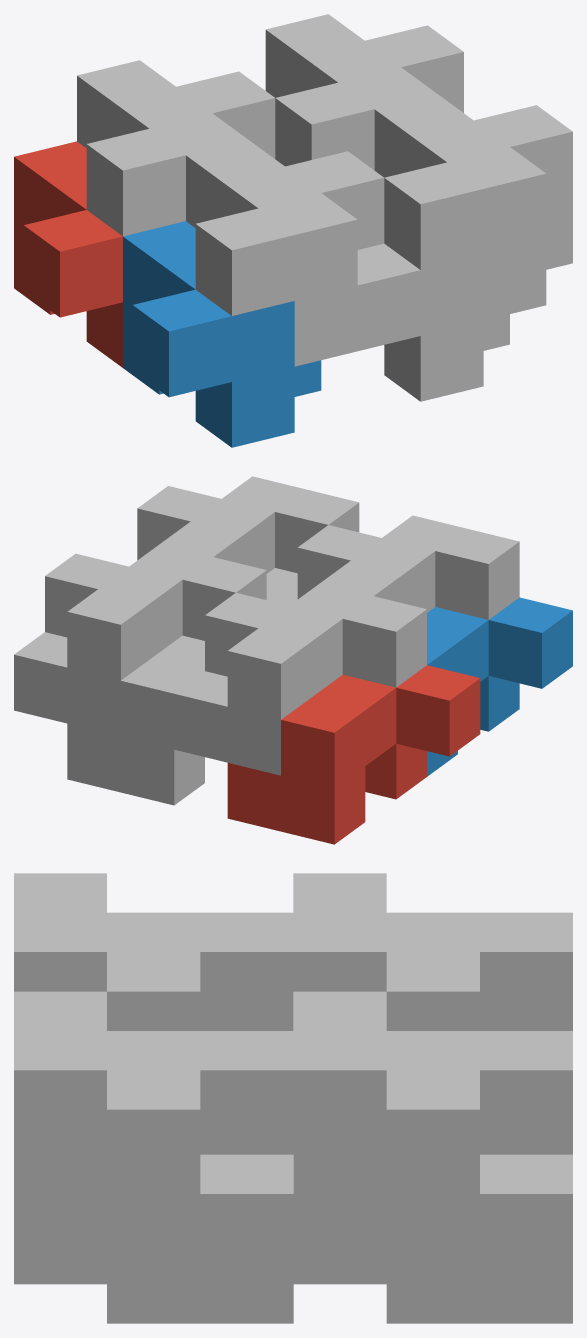
File: tiling.obj
The picture shows the model from 3 angles, top to bottom: view 1: azimuth 30°, elevation 25°; view 2: azimuth 150°, elevation 25°; view 3: azimuth 270°, elevation 25°; orthographic projection. The views are drawn at different scales.
Visible parts, largest first — view 1: copy_1_domain_8, copy_1_domain_4, copy_1_domain_2, copy_1_domain_3, copy_1_domain_7, copy_1_domain_6, copy_1_domain_1; view 2: copy_1_domain_3, copy_1_domain_1, copy_1_domain_7, copy_1_domain_4, copy_1_domain_8, copy_1_domain_5, copy_1_domain_2, copy_1_domain_6; view 3: copy_1_domain_7, copy_1_domain_8, copy_1_domain_3, copy_1_domain_4, copy_1_domain_5, copy_1_domain_6.
Boxes of the visible parts, x1,y1,x2,y2 form: copy_1_domain_8: [374, 94, 572, 320]; copy_1_domain_4: [186, 140, 384, 366]; copy_1_domain_2: [123, 221, 321, 447]; copy_1_domain_3: [77, 60, 275, 236]; copy_1_domain_7: [265, 14, 463, 170]; copy_1_domain_6: [357, 243, 509, 401]; copy_1_domain_1: [14, 141, 122, 367]; copy_1_domain_3: [174, 583, 426, 775]; copy_1_domain_1: [227, 665, 480, 844]; copy_1_domain_7: [14, 544, 266, 736]; copy_1_domain_4: [297, 515, 519, 619]; copy_1_domain_8: [137, 476, 359, 573]; copy_1_domain_5: [67, 635, 204, 805]; copy_1_domain_2: [427, 597, 572, 776]; copy_1_domain_6: [266, 568, 297, 605]; copy_1_domain_7: [293, 991, 572, 1278]; copy_1_domain_8: [14, 991, 293, 1278]; copy_1_domain_3: [293, 873, 572, 1030]; copy_1_domain_4: [14, 873, 293, 1030]; copy_1_domain_5: [293, 1239, 572, 1323]; copy_1_domain_6: [14, 1239, 293, 1323].
Bounding box in the file's own units: 7 × 3 × 6.
